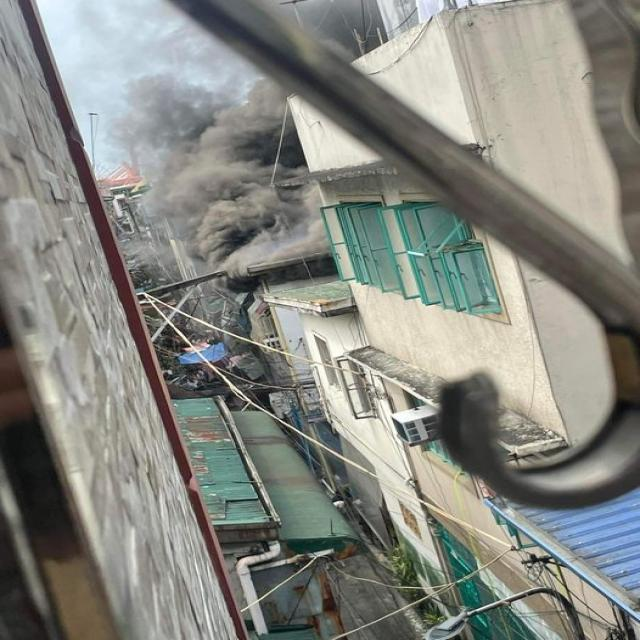Smoke: (124, 78, 320, 258)
